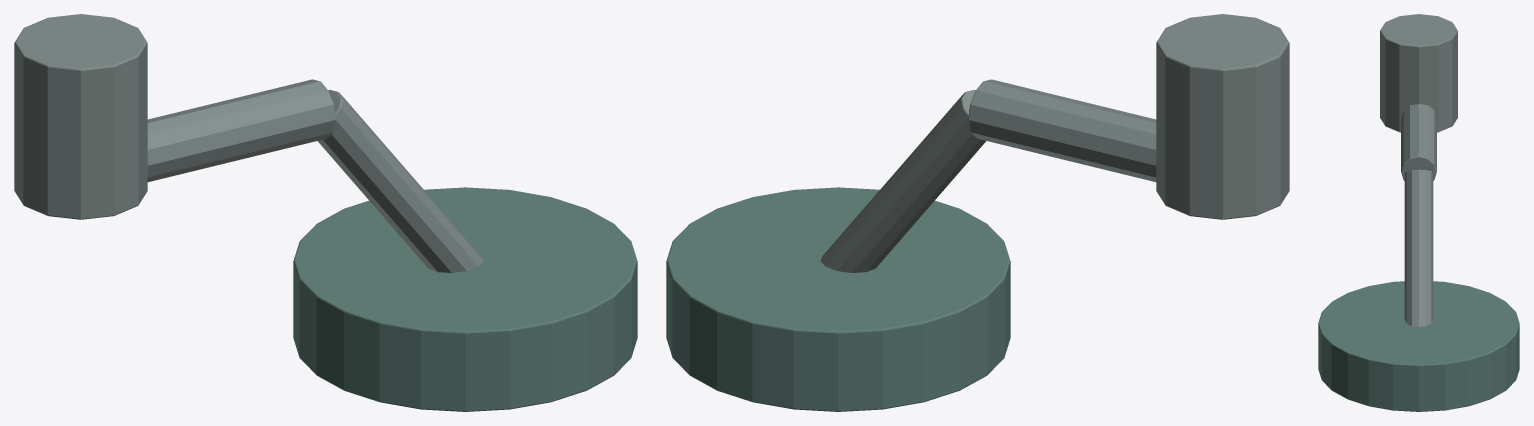
The model's file is H_SurgicalLamp.fbx.
3 renders of one model, left to right at view 1: azimuth 30°, elevation 25°; view 2: azimuth 150°, elevation 25°; view 3: azimuth 270°, elevation 25°, orthographic. The views are drawn at different scales.
Parts seen in each view (by area): view 1: H_SurgicalLamp; view 2: H_SurgicalLamp; view 3: H_SurgicalLamp.
Boxes of the visible parts, box(x1,y1,x2,y2) form: H_SurgicalLamp: box(14, 14, 637, 411); H_SurgicalLamp: box(666, 14, 1289, 411); H_SurgicalLamp: box(1318, 14, 1519, 411).
Size of the model in its own units: 1.23 by 0.8 by 0.62.
